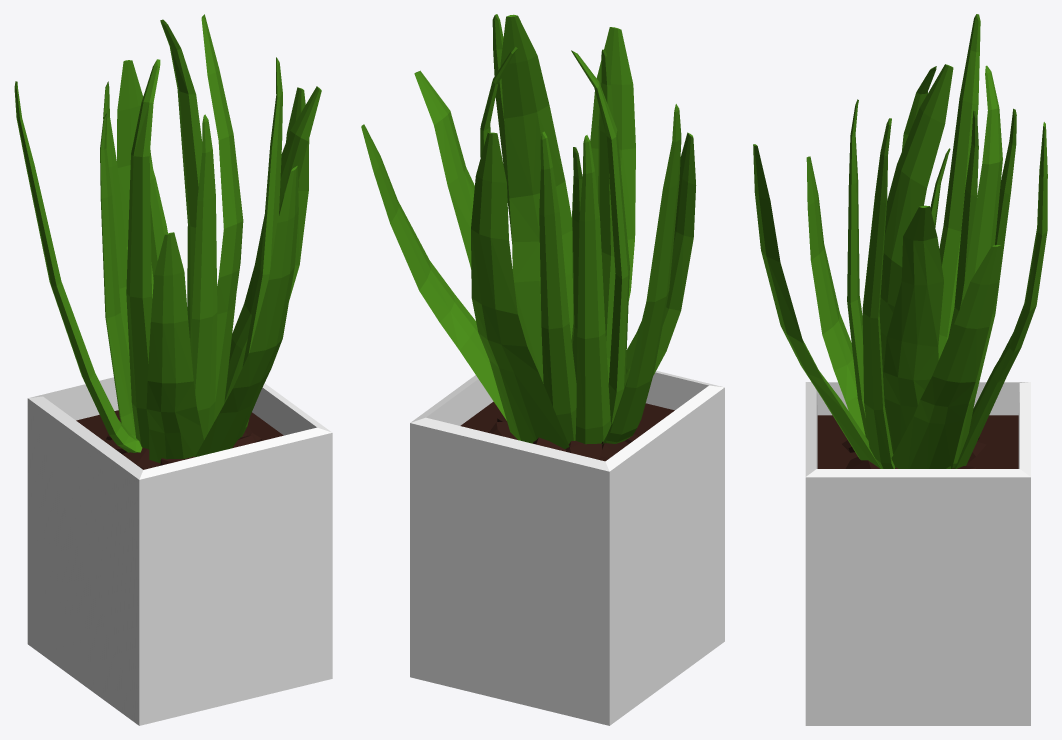
File: plant_white.glb
3 views of the same model, side by side, from view 1: azimuth 30°, elevation 25°; view 2: azimuth 150°, elevation 25°; view 3: azimuth 270°, elevation 25° (orthographic). The views are drawn at different scales.
Parts seen in each view (by area): view 1: plant_white; view 2: plant_white; view 3: plant_white.
Part boxes in pixels (x1,y1,x2,y2): plant_white: [14, 14, 332, 725]; plant_white: [361, 14, 724, 725]; plant_white: [753, 14, 1047, 725].
Bounding box in the file's own units: 0.4979 × 1 × 0.4227.
